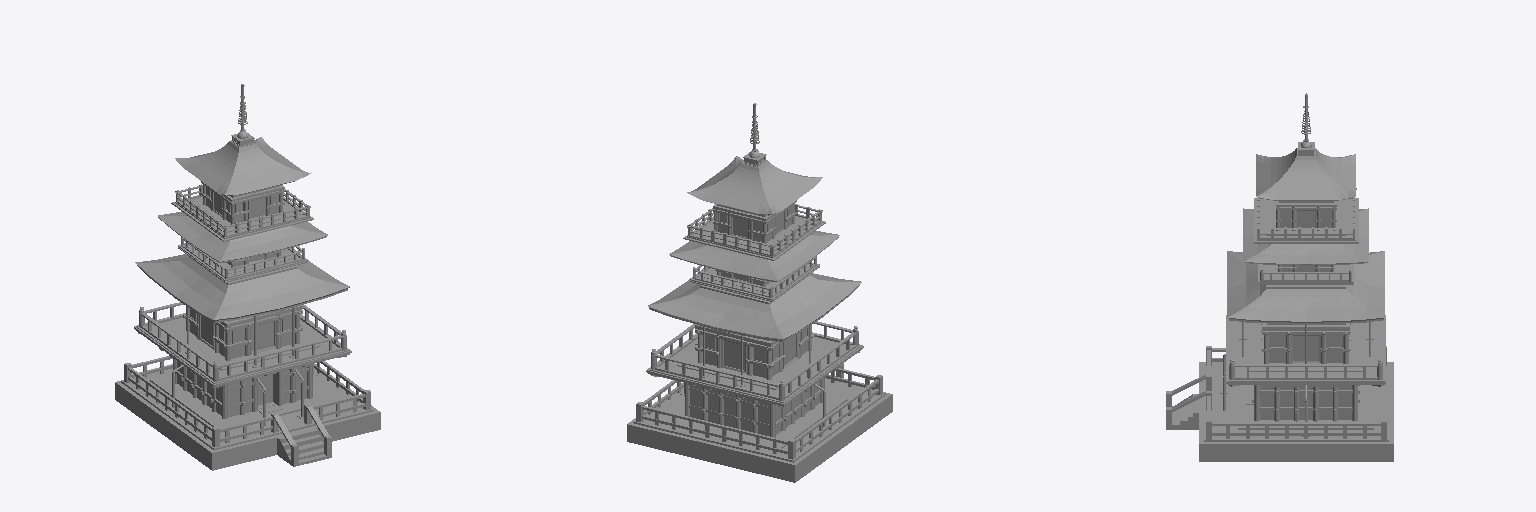
The model's file is Japanese_Temple.obj.
3 renders of one model, left to right at view 1: azimuth 30°, elevation 25°; view 2: azimuth 150°, elevation 25°; view 3: azimuth 270°, elevation 25°, orthographic.
Parts seen in each view (by area): view 1: Japanese_Shrine_Cylinder.030; view 2: Japanese_Shrine_Cylinder.030; view 3: Japanese_Shrine_Cylinder.030.
Part boxes in pixels (left/top/right/bottom): Japanese_Shrine_Cylinder.030: left=115, top=84, right=380, bottom=470; Japanese_Shrine_Cylinder.030: left=627, top=103, right=892, bottom=482; Japanese_Shrine_Cylinder.030: left=1166, top=93, right=1393, bottom=461.
Bounding box in the file's own units: 20 × 37.38 × 23.4.